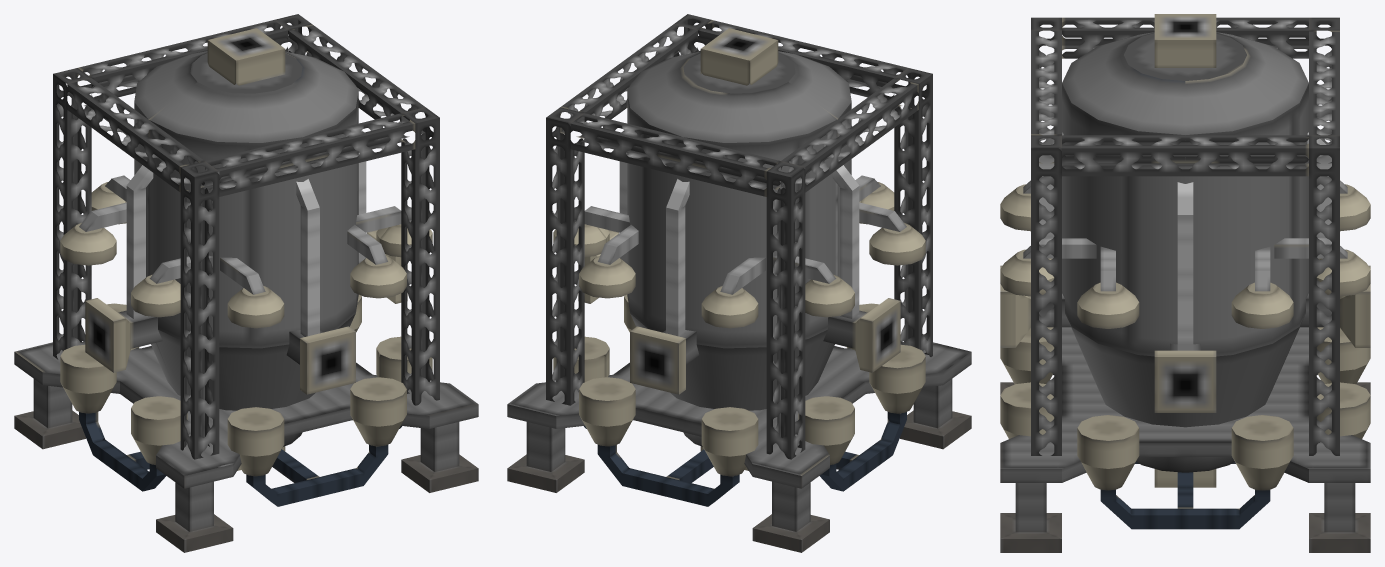
Rendered from liquefactor_main.obj.
The picture shows the model from 3 angles, left to right: view 1: azimuth 30°, elevation 25°; view 2: azimuth 150°, elevation 25°; view 3: azimuth 270°, elevation 25°; orthographic projection. The views are drawn at different scales.
Visible parts, largest first — view 1: Main; view 2: Main; view 3: Main.
Part boxes in pixels (x1=…): Main: x1=14, y1=14, x2=478, y2=552; Main: x1=507, y1=14, x2=971, y2=552; Main: x1=1000, y1=14, x2=1370, y2=552.
Bounding box in the file's own units: 3 × 4 × 3.
